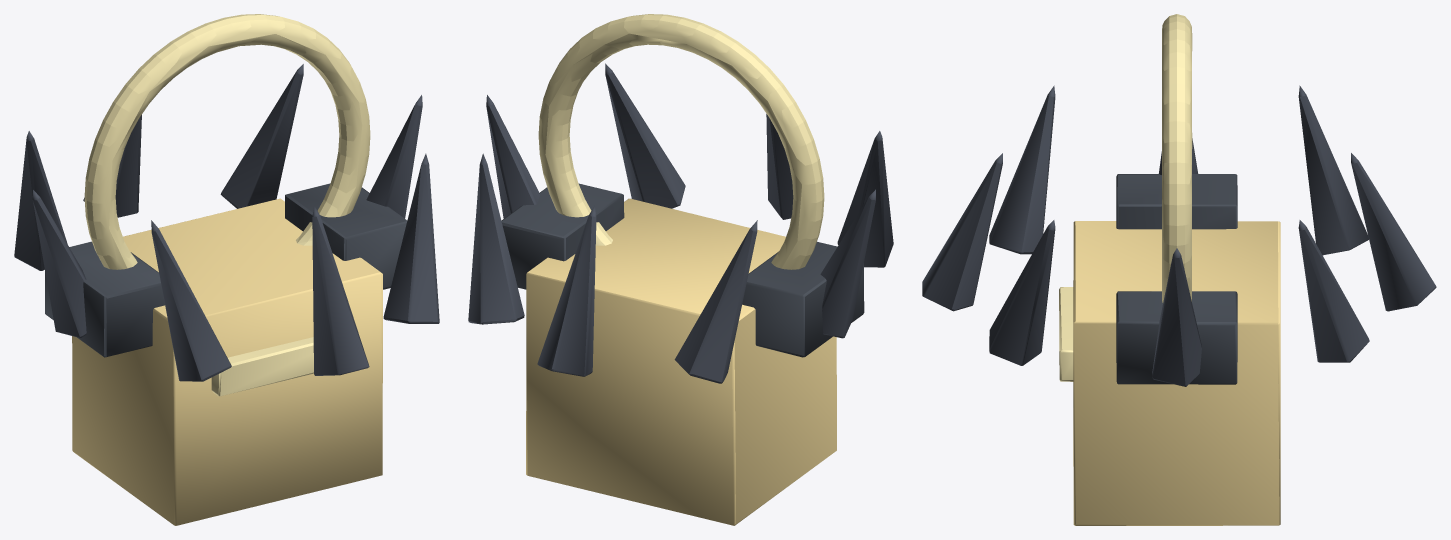
The model's file is SM_Boss_Kurhaus_LOD1.fbx.
3 renders of one model, left to right at view 1: azimuth 30°, elevation 25°; view 2: azimuth 150°, elevation 25°; view 3: azimuth 270°, elevation 25°, orthographic.
Parts seen in each view (by area): view 1: SM_Boss_Kurhaus_LOD1; view 2: SM_Boss_Kurhaus_LOD1; view 3: SM_Boss_Kurhaus_LOD1.
Part boxes in pixels (<box>): SM_Boss_Kurhaus_LOD1: <box>14,14,439,525</box>; SM_Boss_Kurhaus_LOD1: <box>468,14,893,525</box>; SM_Boss_Kurhaus_LOD1: <box>922,14,1436,525</box>.
Size of the model in its own units: 2.84 by 3.11 by 3.24.
